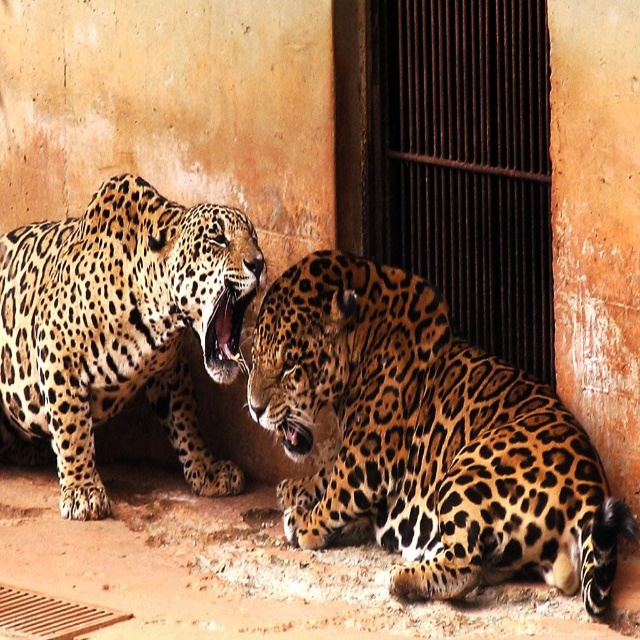Jaguar: (237, 248, 639, 619), (0, 173, 269, 518)
